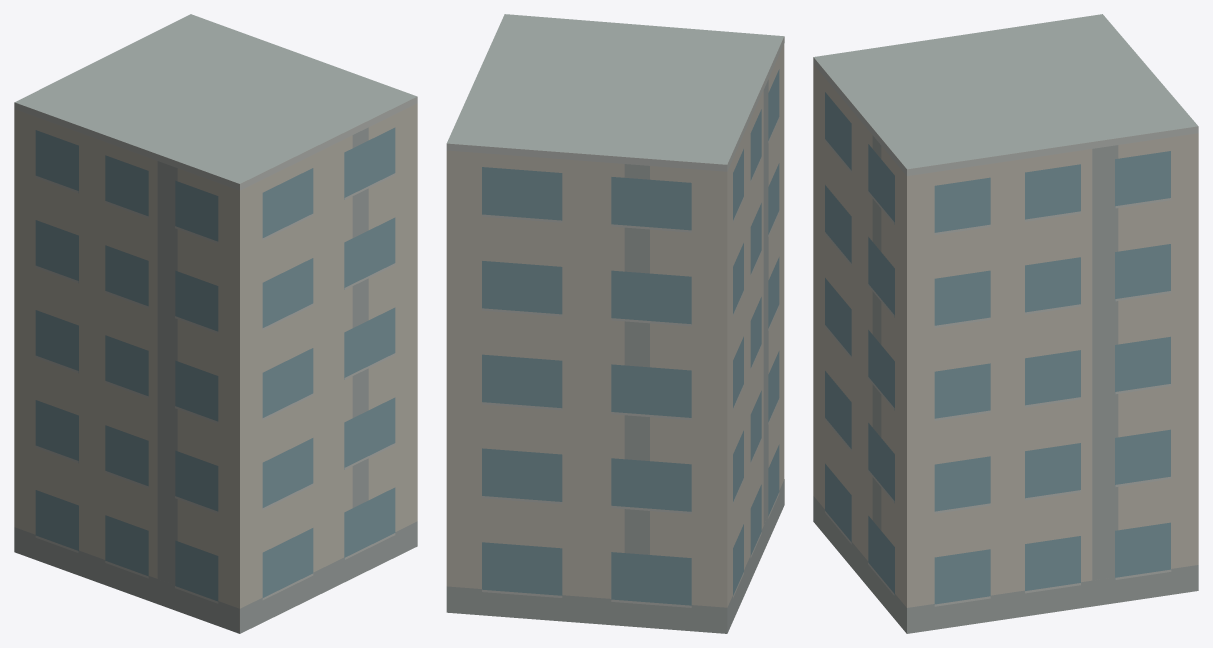
The model's file is survey-upis-32507500.glb.
The picture shows the model from 3 angles, left to right: view 1: azimuth 30°, elevation 25°; view 2: azimuth 150°, elevation 25°; view 3: azimuth 270°, elevation 25°; orthographic projection. The views are drawn at different scales.
Parts seen in each view (by area): view 1: survey-upis-32507500.tmp; view 2: survey-upis-32507500.tmp; view 3: survey-upis-32507500.tmp.
Part boxes in pixels (box(x1,y1,x2,y2)): survey-upis-32507500.tmp: box(14, 14, 417, 633); survey-upis-32507500.tmp: box(446, 14, 784, 633); survey-upis-32507500.tmp: box(813, 14, 1198, 633).
Bounding box in the file's own units: 11.77 × 16.4 × 12.33.
